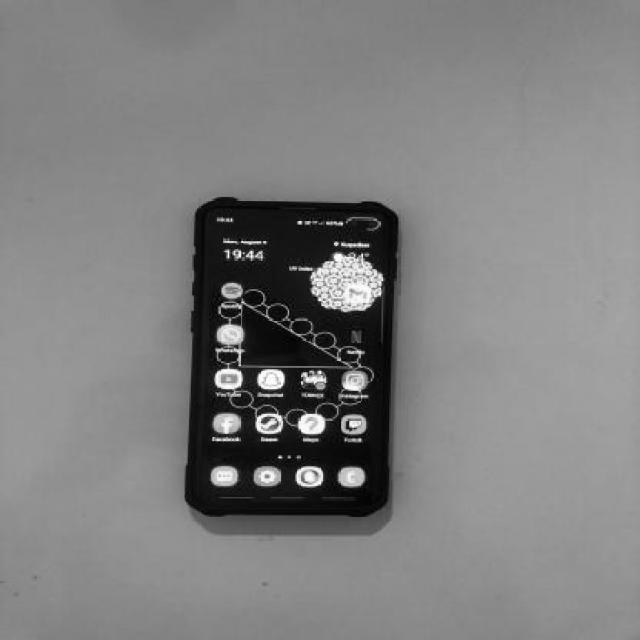fake: (188, 196, 400, 518)
